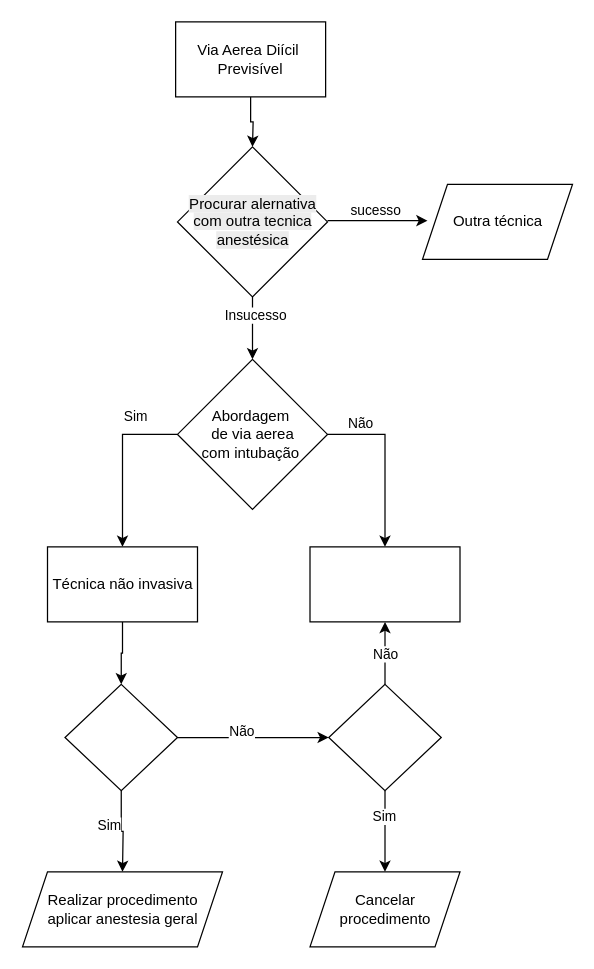
Image size: 594x969. Some labels were removed from this diagram. Each missing label, with the centre of its shape:
"Cirurgia planeada" goes at (384,737).
"Sucesso intubação?" goes at (121,737).
"Técnica invasiva (Cricotirotomia)" goes at (384,584).
